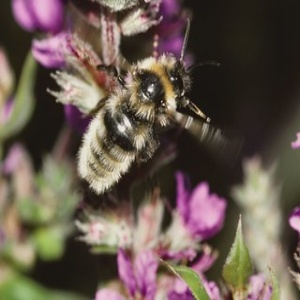bee: (75, 17, 229, 197)
